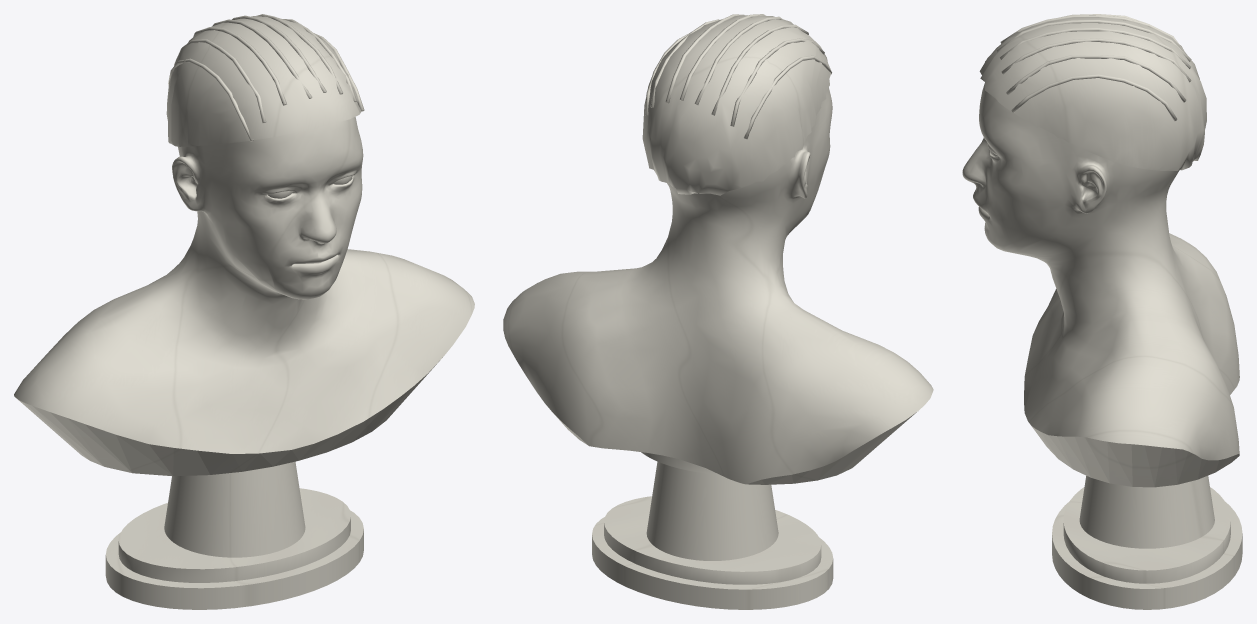
Rendered from classical-male-bust.glb.
3 renders of one model, left to right at view 1: azimuth 30°, elevation 25°; view 2: azimuth 150°, elevation 25°; view 3: azimuth 270°, elevation 25°, orthographic. The views are drawn at different scales.
Parts seen in each view (by area): view 1: Classical shoulder bust, Turned socle and stepped oval foot, Solid short sculpted hair, Raised swept carved hair locks; view 2: Classical shoulder bust, Turned socle and stepped oval foot, Solid short sculpted hair, Raised swept carved hair locks; view 3: Classical shoulder bust, Solid short sculpted hair, Turned socle and stepped oval foot, Raised swept carved hair locks.
Boxes of the visible parts, box(x1,y1,x2,y2) form: Classical shoulder bust: box(14, 116, 474, 476); Turned socle and stepped oval foot: box(105, 461, 363, 609); Solid short sculpted hair: box(166, 16, 361, 146); Raised swept carved hair locks: box(168, 14, 364, 141); Classical shoulder bust: box(503, 87, 933, 484); Turned socle and stepped oval foot: box(592, 452, 833, 609); Solid short sculpted hair: box(642, 15, 831, 195); Raised swept carved hair locks: box(645, 14, 831, 139); Classical shoulder bust: box(962, 83, 1239, 487); Solid short sculpted hair: box(979, 15, 1206, 170); Turned socle and stepped oval foot: box(1052, 475, 1242, 609); Raised swept carved hair locks: box(997, 14, 1191, 121).
Bounding box in the file's own units: 0.4668 × 0.5607 × 0.2675.
1 material, 1 textured.
